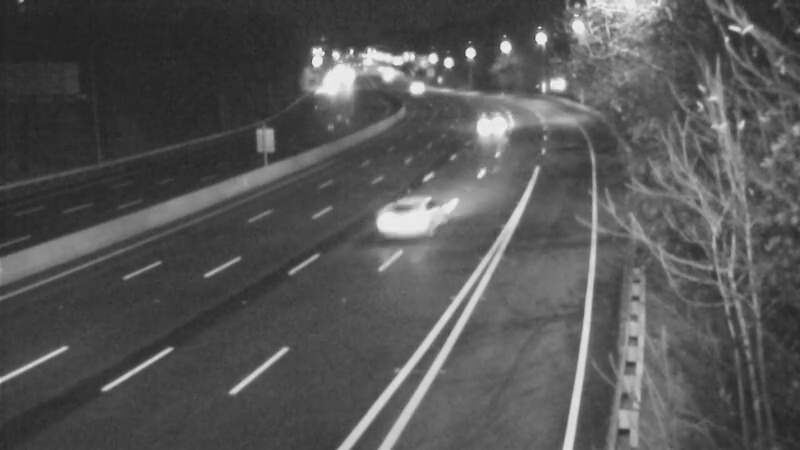vehicle: (354, 181, 434, 261), (390, 65, 440, 115), (463, 97, 513, 147)
